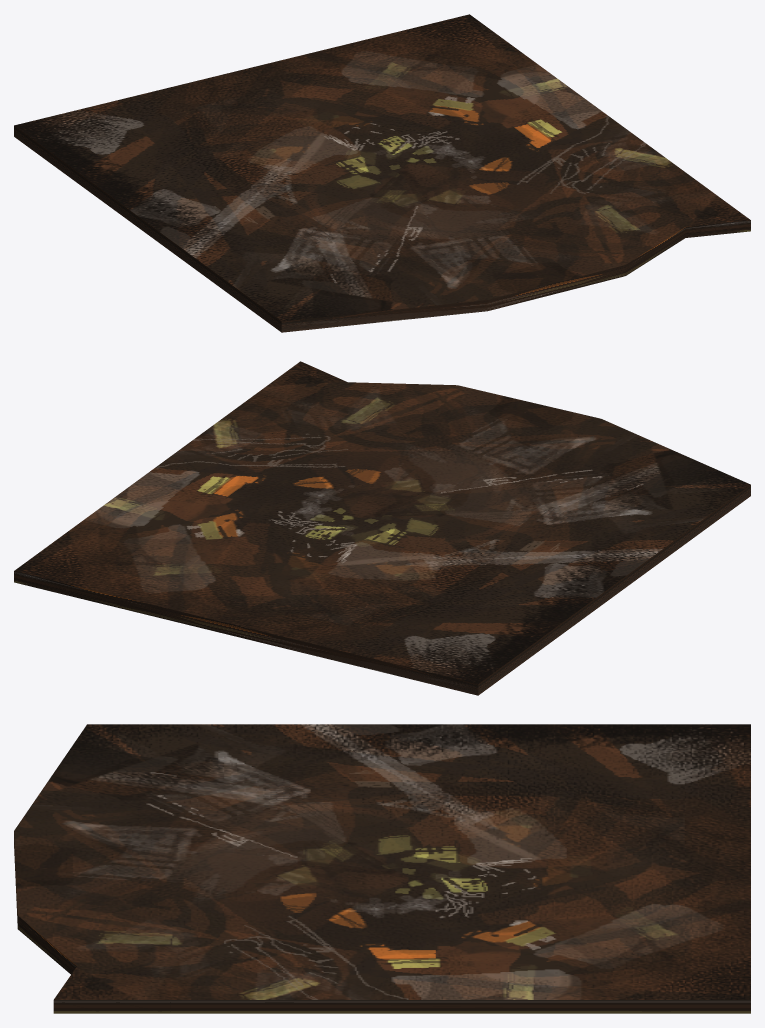
File: SM_subfloordropoff.fbx
3 renders of one model, top to bottom at view 1: azimuth 30°, elevation 25°; view 2: azimuth 150°, elevation 25°; view 3: azimuth 270°, elevation 25°, orthographic. The views are drawn at different scales.
Parts seen in each view (by area): view 1: SM_subfloor.001; view 2: SM_subfloor.001; view 3: SM_subfloor.001.
Boxes of the visible parts, box(x1,y1,x2,y2) form: SM_subfloor.001: box(14, 14, 750, 332); SM_subfloor.001: box(14, 361, 750, 695); SM_subfloor.001: box(14, 724, 750, 1013).
Bounding box in the file's own units: 611 × 14.33 × 690.
